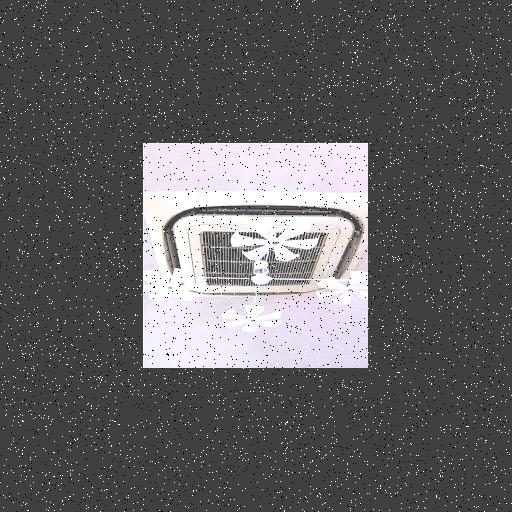4-way-ac: (144, 194, 368, 300)
